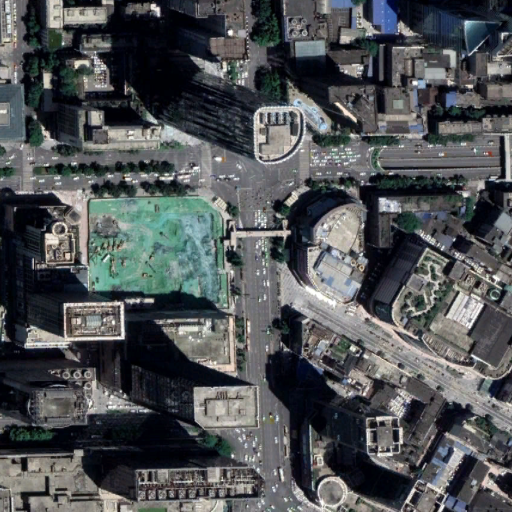cw: (88, 197, 229, 311)
